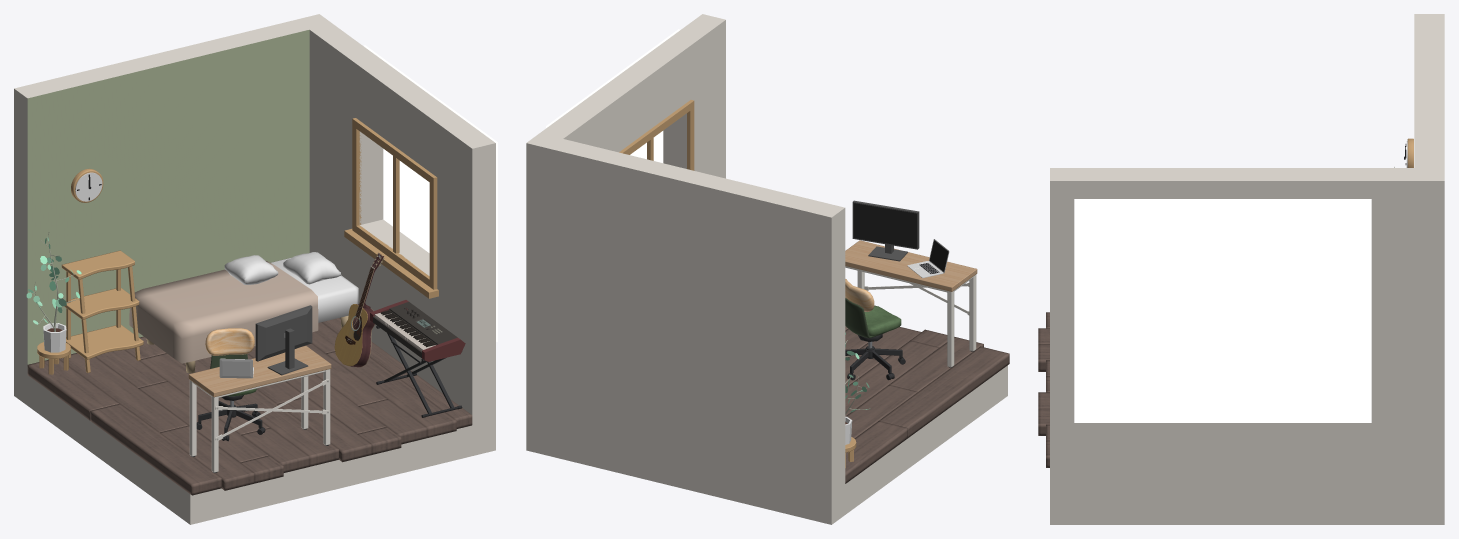
File: portfolio_room_1_2.glb
3 views of the same model, side by side, from view 1: azimuth 30°, elevation 25°; view 2: azimuth 150°, elevation 25°; view 3: azimuth 270°, elevation 25° (orthographic). The views are drawn at different scales.
Parts seen in each view (by area): view 1: WallWhite, WallGreen, WoodFloorBody, BedComforter, DeskBody, WindowFrame, WavyShelfBody, WindowSky, SynthesizerBody, MonitorBody, ChairBody, AcousticGuitarBody (+9 smaller); view 2: WallWhite, WoodFloorBody, DeskBody, MonitorBody, ChairBody, WindowFrame, WindowSky, LaptopBody; view 3: WallWhite, WindowSky, WoodFloorBody.
Part boxes in pixels (<box>): WallWhite: <box>14,14,495,524</box>; WallGreen: <box>27,29,309,364</box>; WoodFloorBody: <box>27,318,472,495</box>; BedComforter: <box>129,261,318,363</box>; DeskBody: <box>188,345,331,472</box>; WindowFrame: <box>344,118,438,298</box>; WavyShelfBody: <box>61,250,143,372</box>; WindowSky: <box>364,45,497,341</box>; SynthesizerBody: <box>370,300,465,361</box>; MonitorBody: <box>255,305,312,375</box>; ChairBody: <box>196,328,265,441</box>; AcousticGuitarBody: <box>334,253,384,367</box>; WallWhite: <box>526,14,1007,524</box>; WoodFloorBody: <box>845,326,1009,483</box>; DeskBody: <box>845,240,977,367</box>; MonitorBody: <box>852,200,919,261</box>; ChairBody: <box>845,279,905,380</box>; WindowFrame: <box>619,100,694,170</box>; WindowSky: <box>546,29,679,162</box>; LaptopBody: <box>907,239,949,278</box>; WallWhite: <box>1050,14,1444,524</box>; WindowSky: <box>1074,199,1371,422</box>; WoodFloorBody: <box>1038,312,1049,467</box>.
Bounding box in the file's own units: 3.37 × 3 × 3.21.
28 materials, 7 textured.
